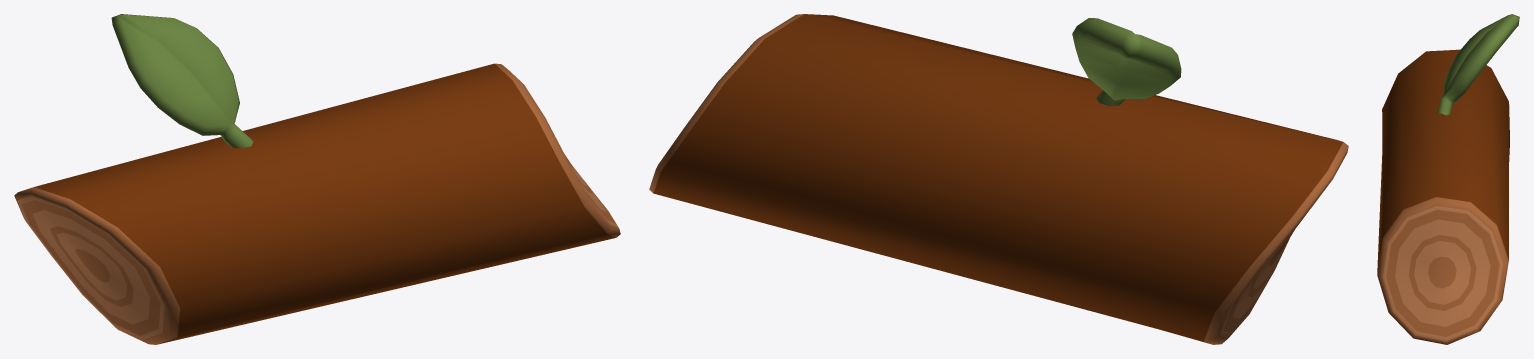
The model's file is tree_wood.fbx.
The picture shows the model from 3 angles, left to right: view 1: azimuth 30°, elevation 25°; view 2: azimuth 150°, elevation 25°; view 3: azimuth 270°, elevation 25°; orthographic projection. The views are drawn at different scales.
Visible parts, largest first — view 1: tree_wood; view 2: tree_wood; view 3: tree_wood.
Part boxes in pixels (x1=…): tree_wood: x1=14, y1=14, x2=620, y2=344; tree_wood: x1=649, y1=14, x2=1348, y2=344; tree_wood: x1=1377, y1=14, x2=1519, y2=344.
Bounding box in the file's own units: 2.36 × 1.11 × 0.7534.
